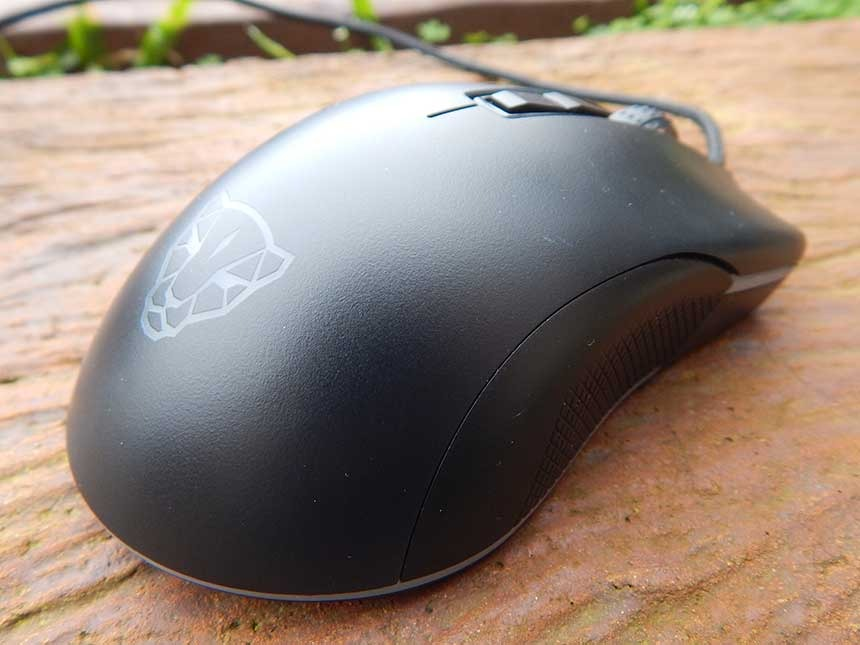mouse: (50, 65, 814, 612)
